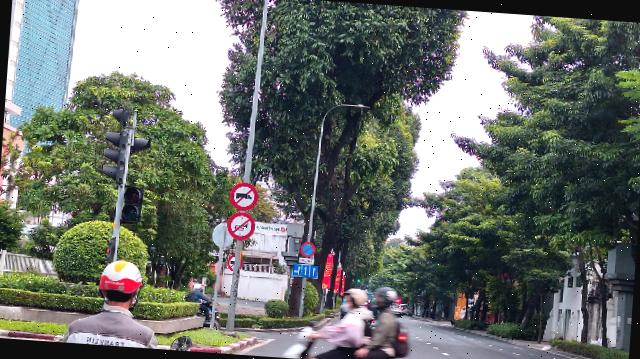cam-bop-coi: (225, 209, 256, 240)
cam-do-xe: (300, 240, 316, 258)
